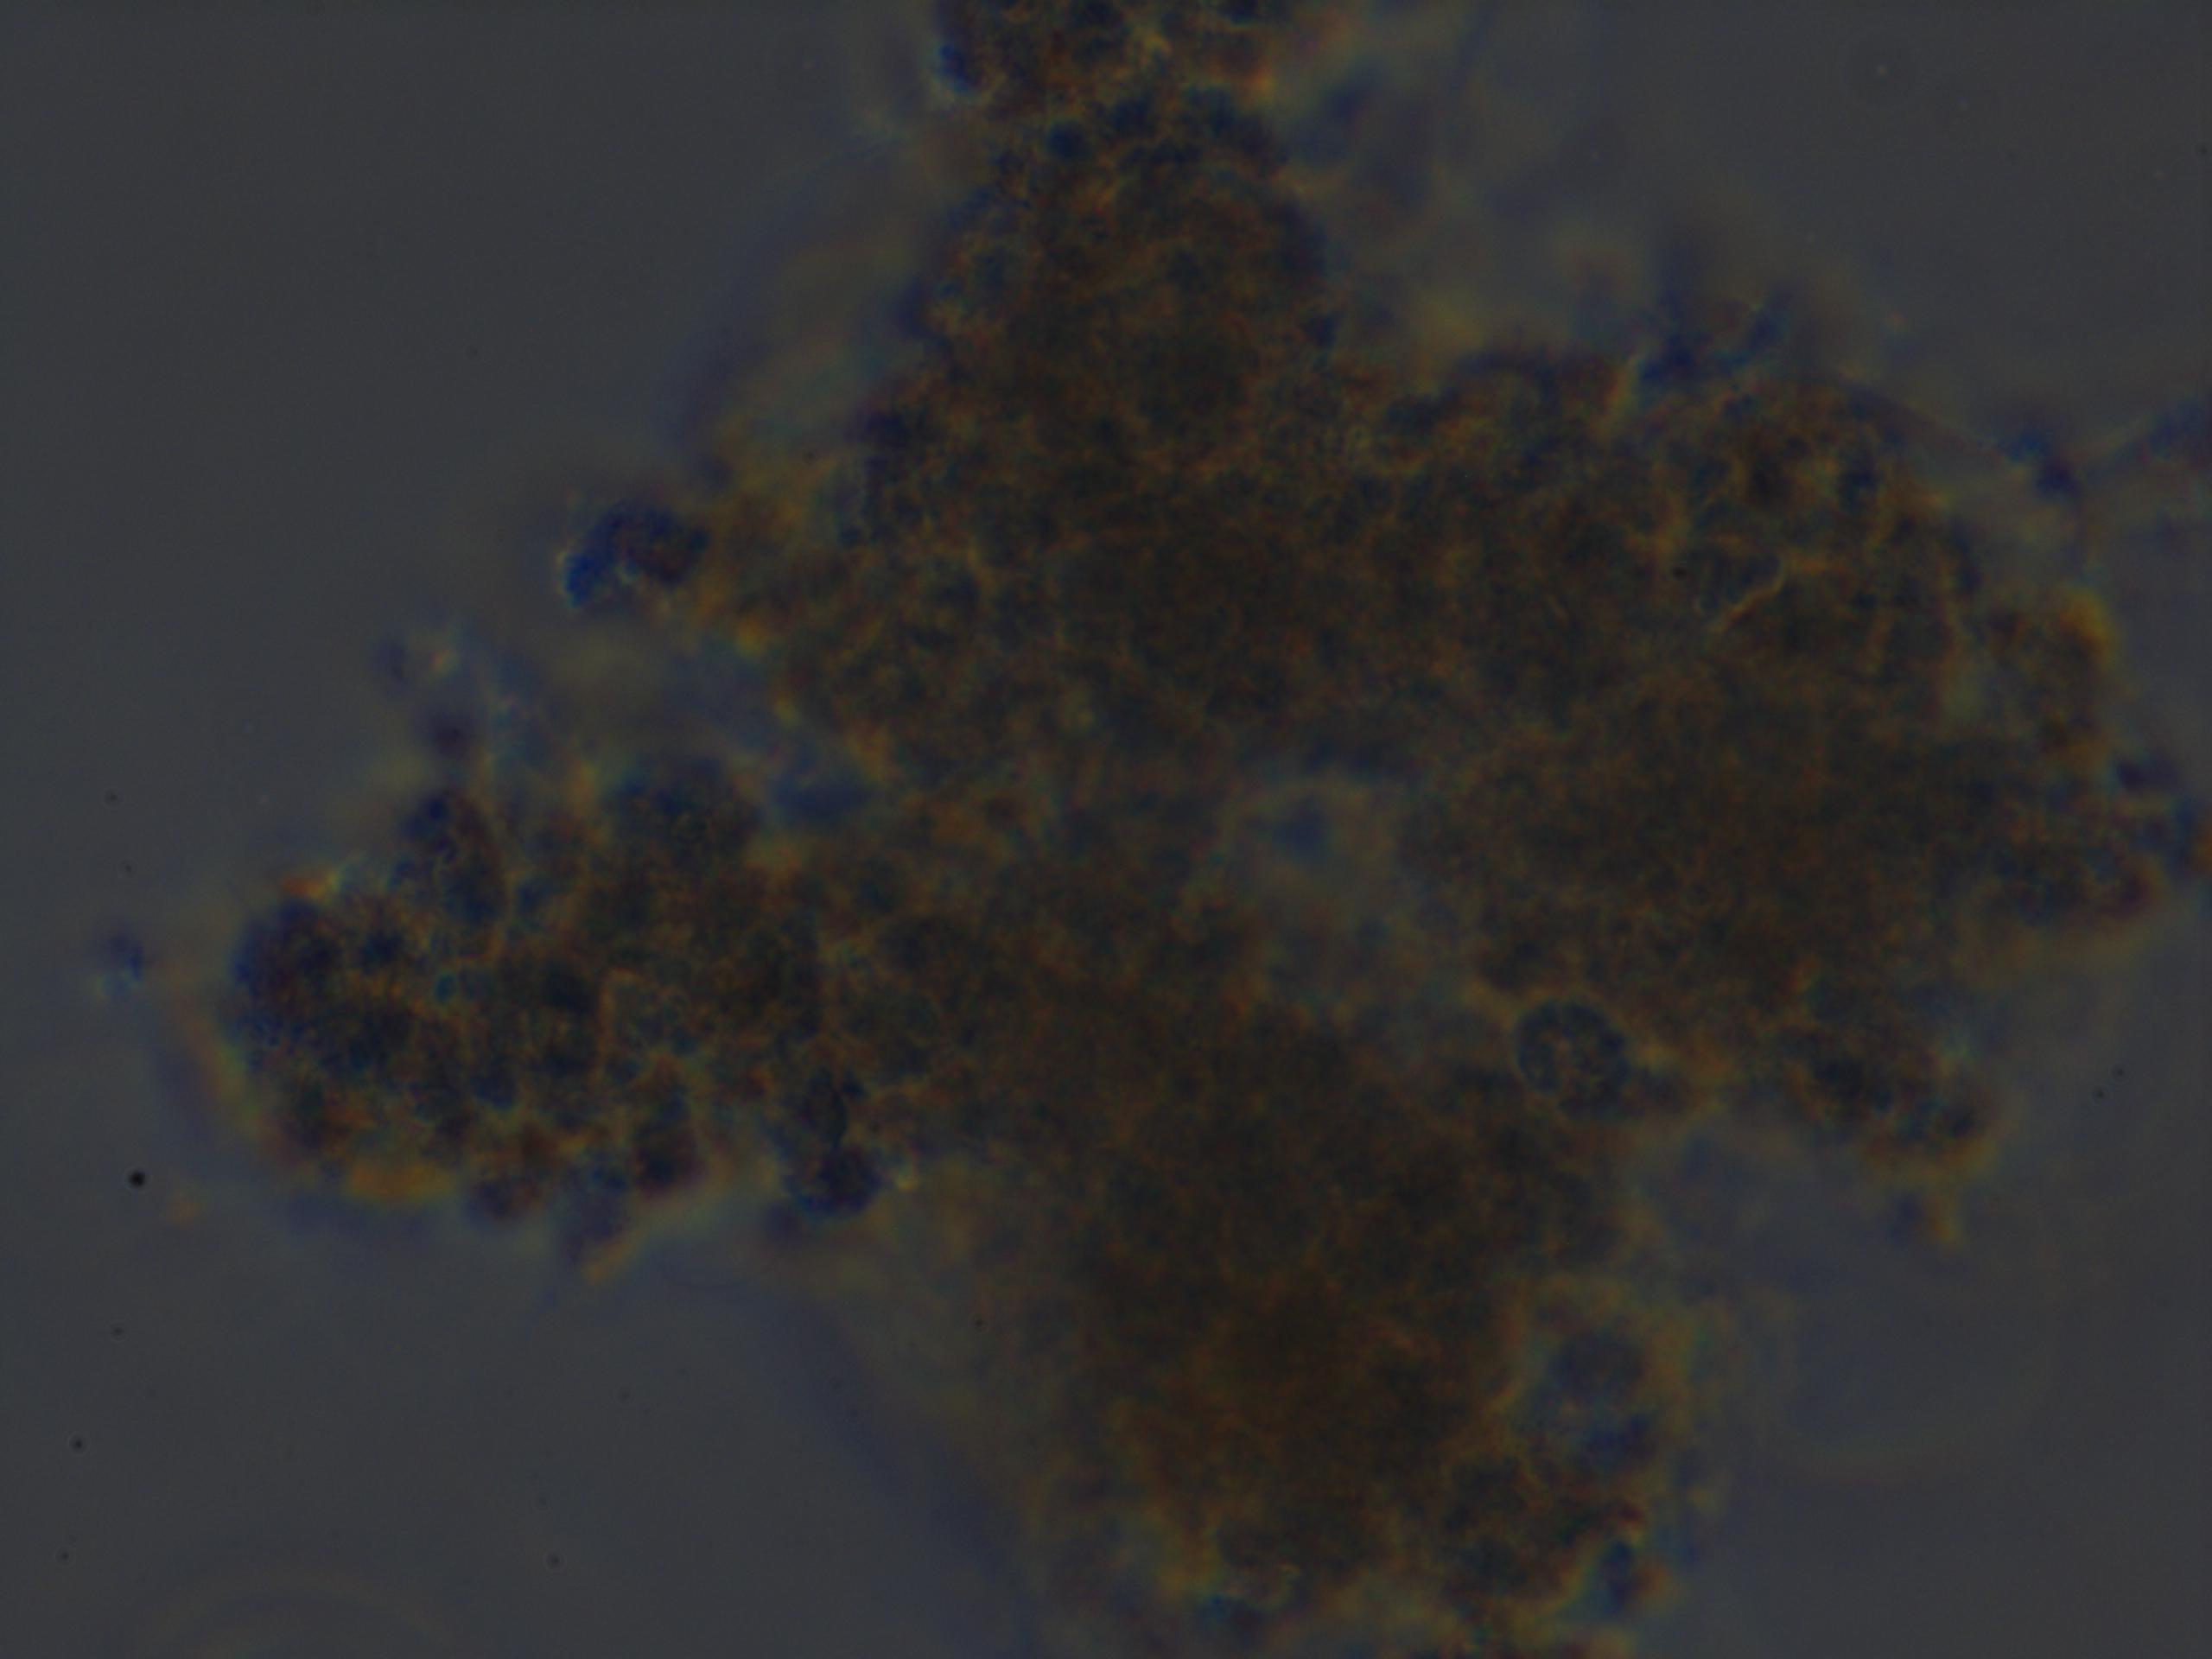open_floc: (200, 0, 2189, 1659)
